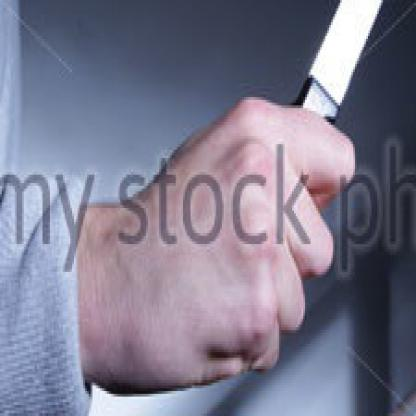knife: (215, 0, 414, 280)
